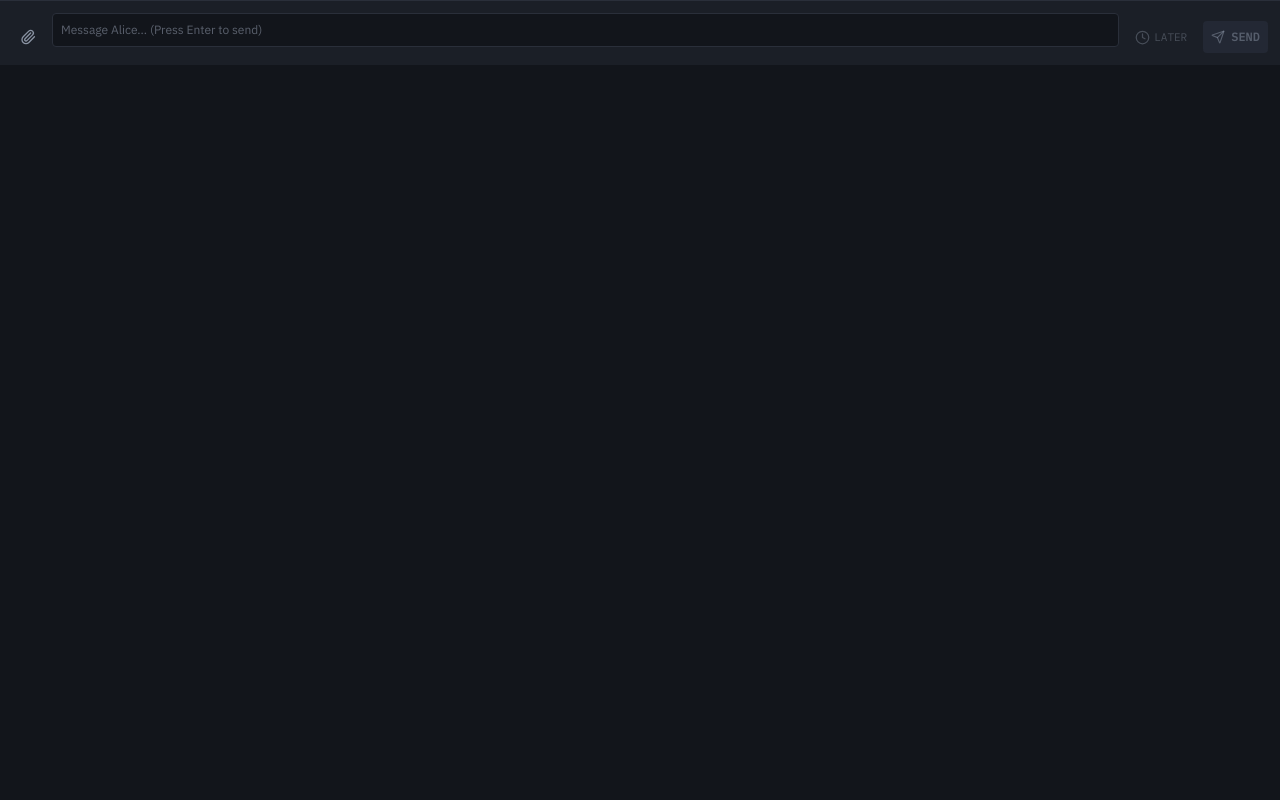
SendConfirmModal keyboard flow › cancels on Escape and keeps the draft
This screenshot has width=1280, height=800.
Type "ping" into the text box with placeholder "Message Alice... (Press Enter to send)".
click(586, 30); type("ping")  # box [52,13,1119,47]
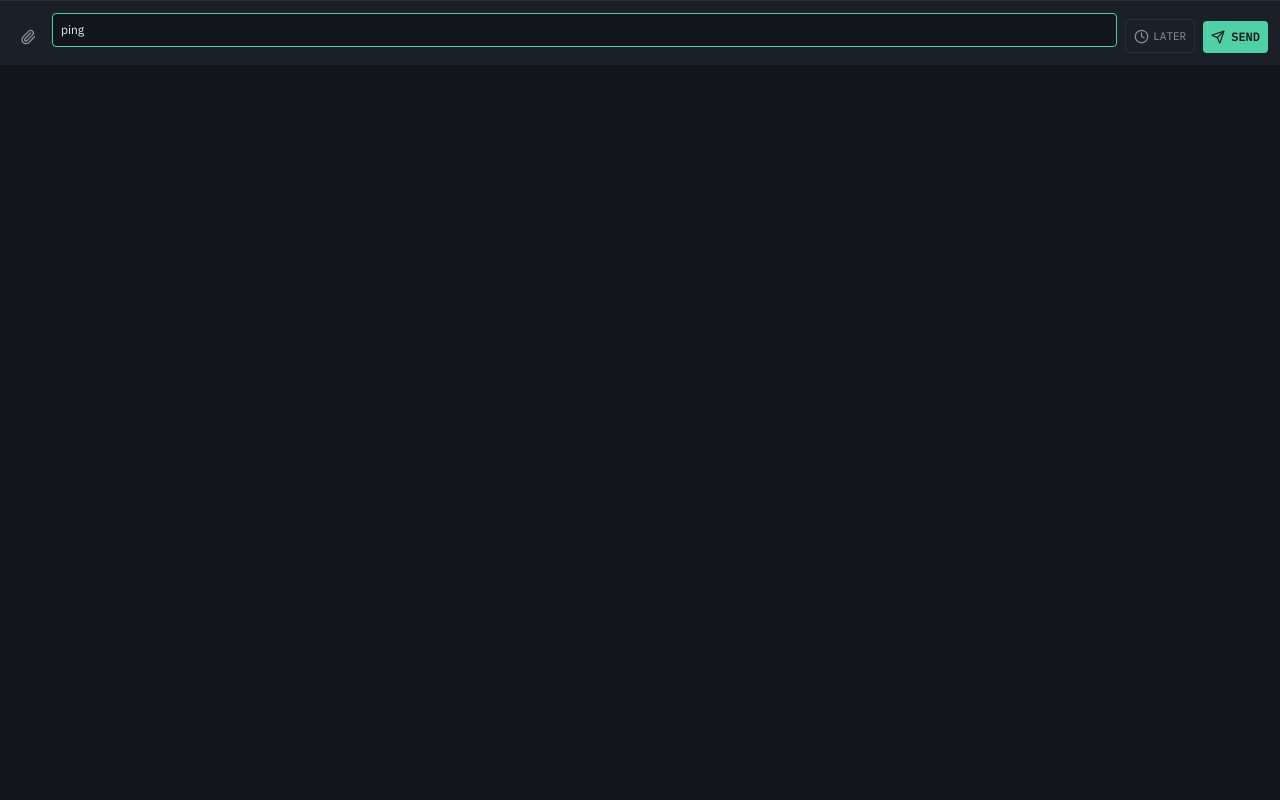
Press Enter
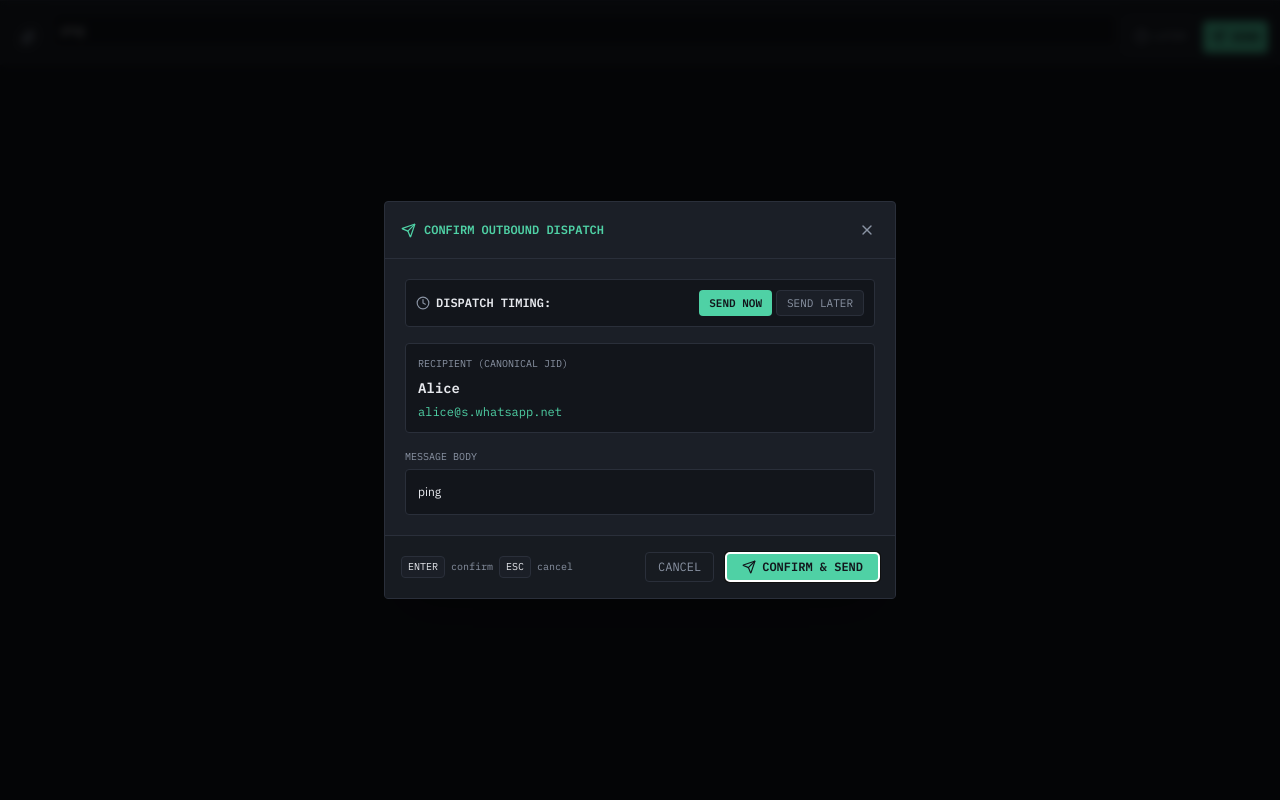
expect the dialog is shown: met, box [384,201,896,599]
Press Escape
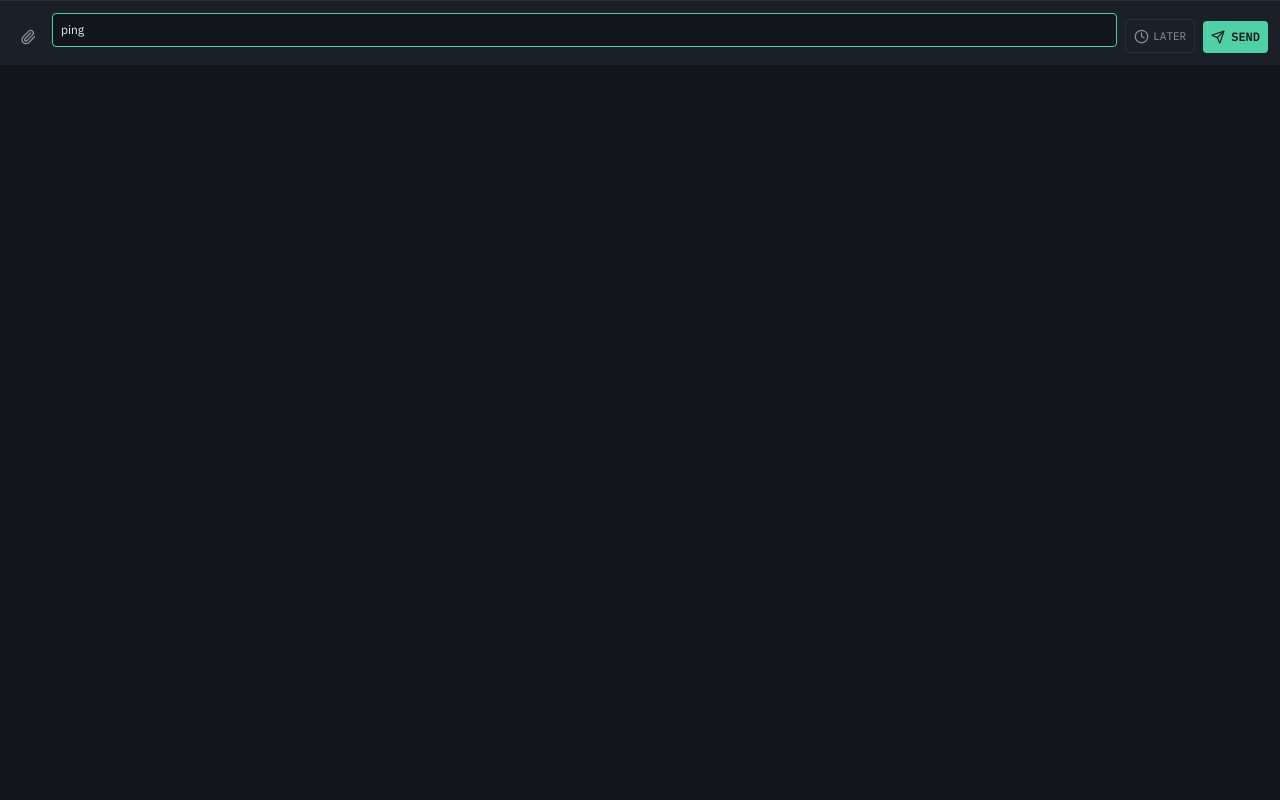
expect the dialog is gone: met
